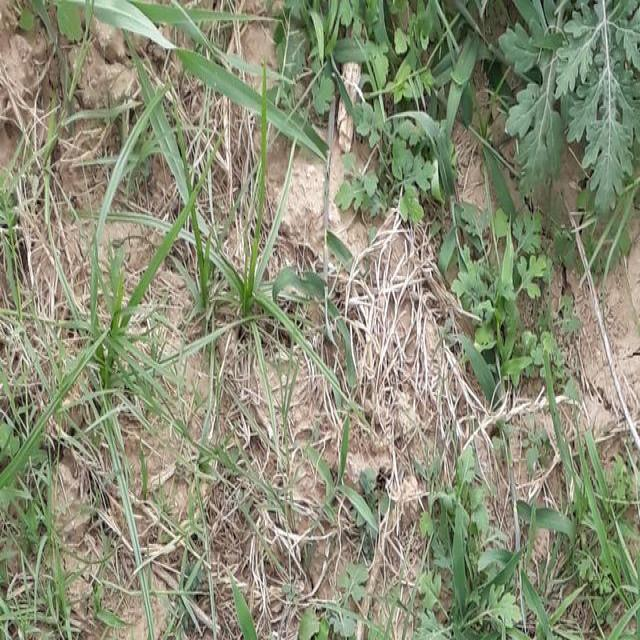weed: (206, 412, 640, 640), (66, 0, 312, 327), (0, 137, 65, 639), (72, 266, 193, 452)
